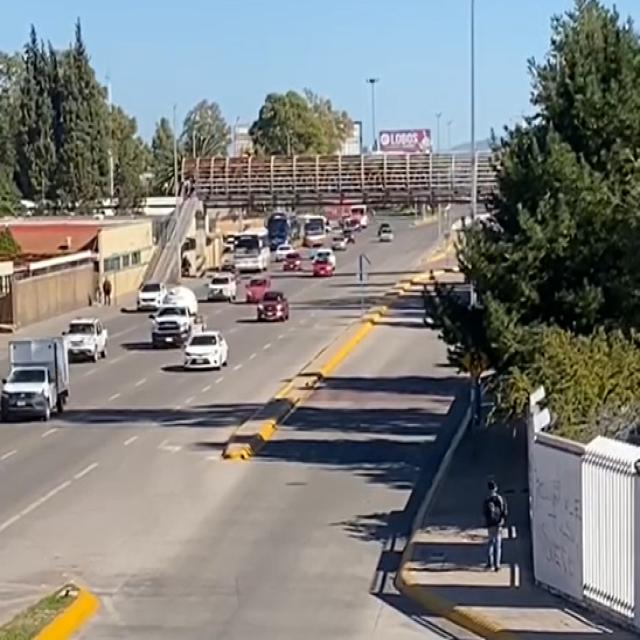Auto: (0, 337, 69, 419), (62, 318, 112, 361), (154, 304, 206, 344), (184, 330, 230, 374), (256, 291, 287, 319), (102, 275, 113, 304)
